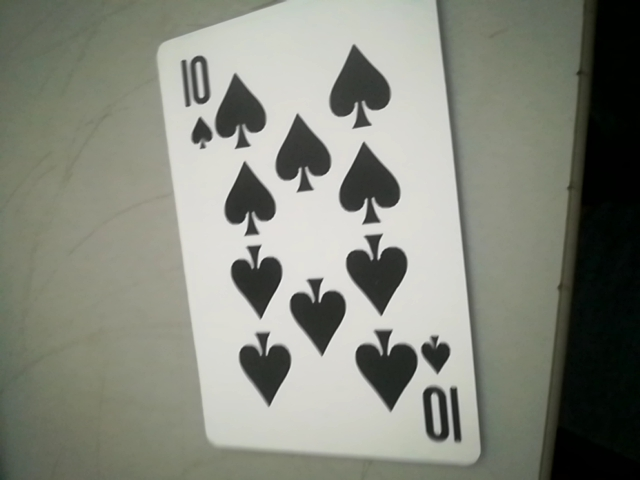ht 10: (417, 337, 469, 454), (177, 54, 215, 151)
